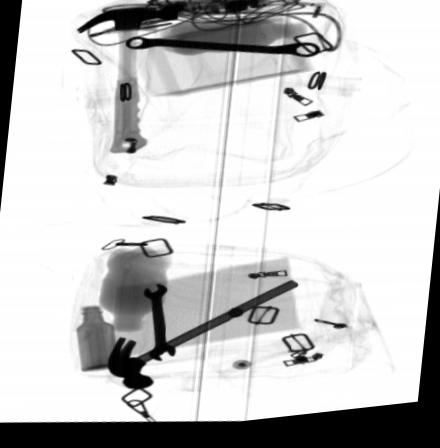Hammer: (107, 285, 301, 391), (74, 8, 180, 155)
Wrench: (125, 37, 322, 63), (143, 286, 176, 364)
